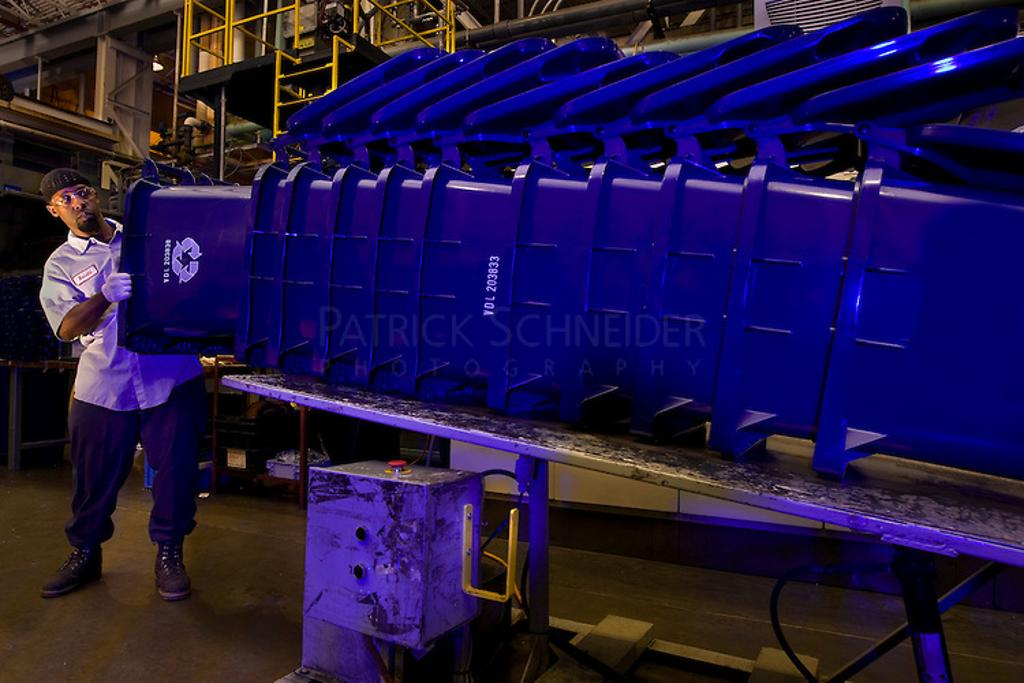face: (51, 184, 98, 232)
